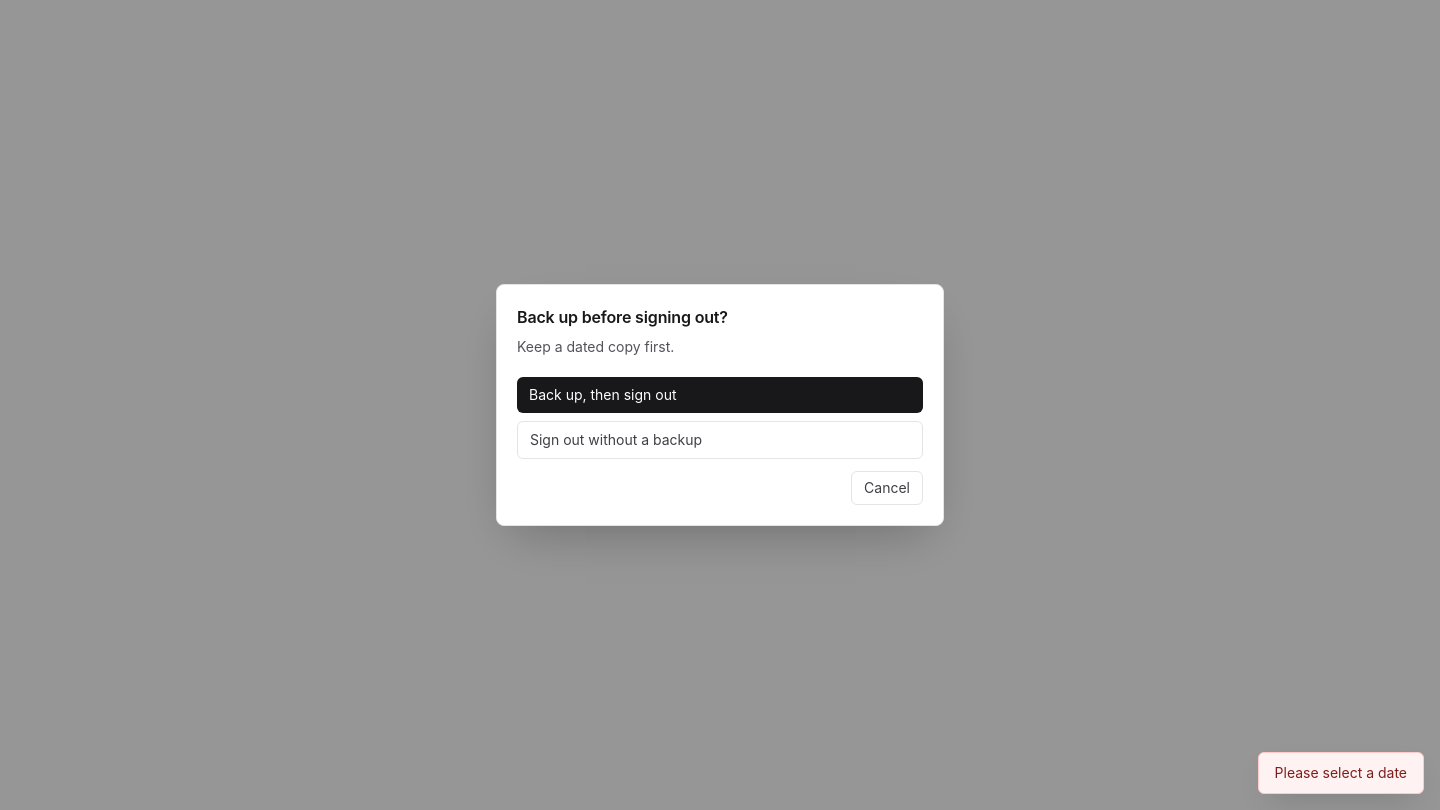
Test: choiceDialog › resolves the option the person picked
Click the button with test id "choice-without-backup".
click(616, 440)  # box [517,421,923,459]
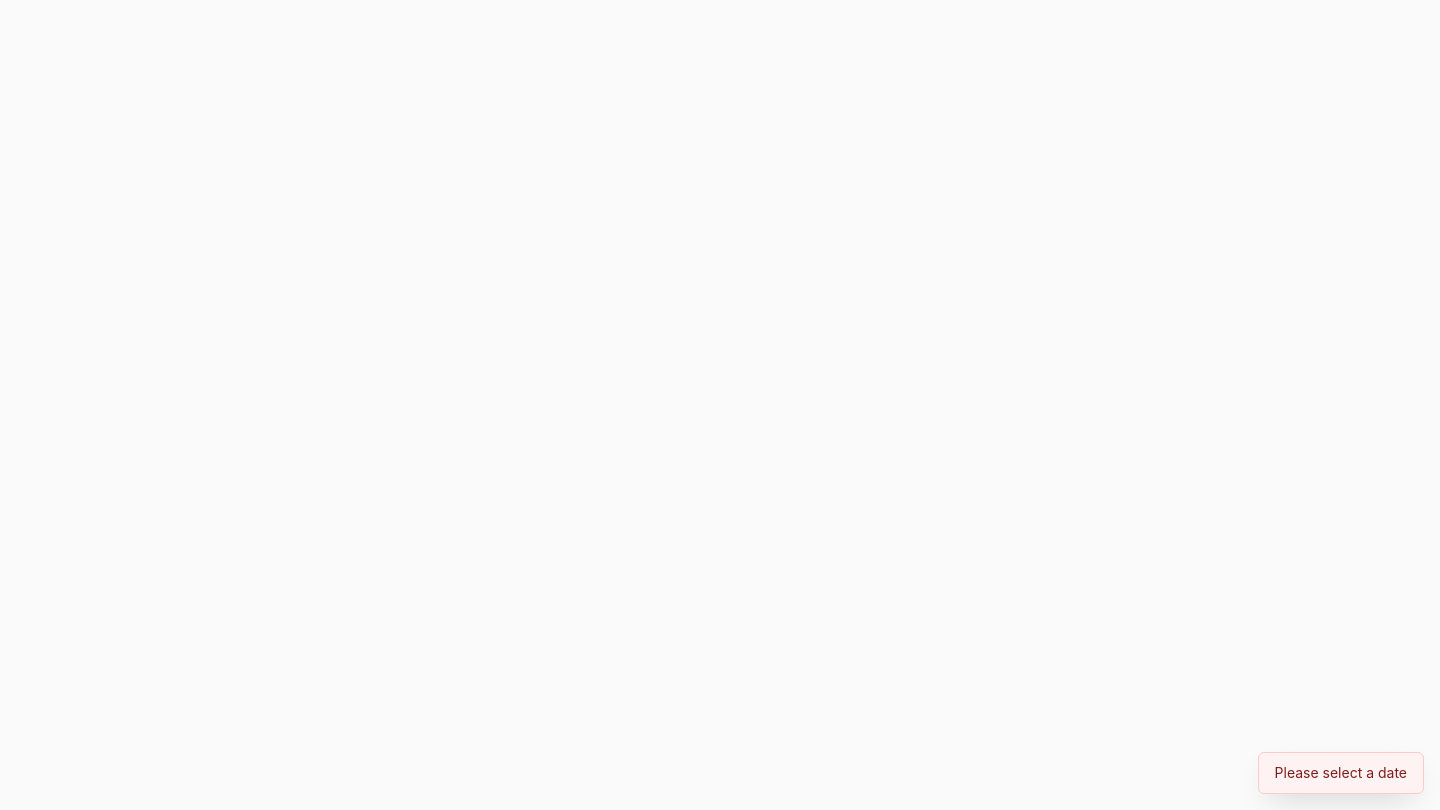
Now the dialog with test id "choice-dialog" is gone
